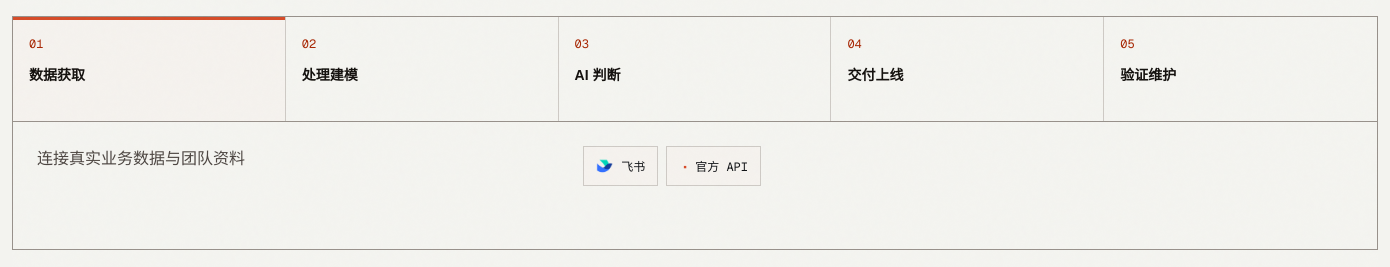
Test: DeliveryPipeline › renders every stage and exposes its active purpose
expect the button "01 数据获取" is shown: met, box [13, 17, 285, 121]
expect the button "02 处理建模" is shown: met, box [286, 17, 558, 121]
Click the button "03 AI 判断".
click(598, 75)  # box [559, 17, 830, 121]
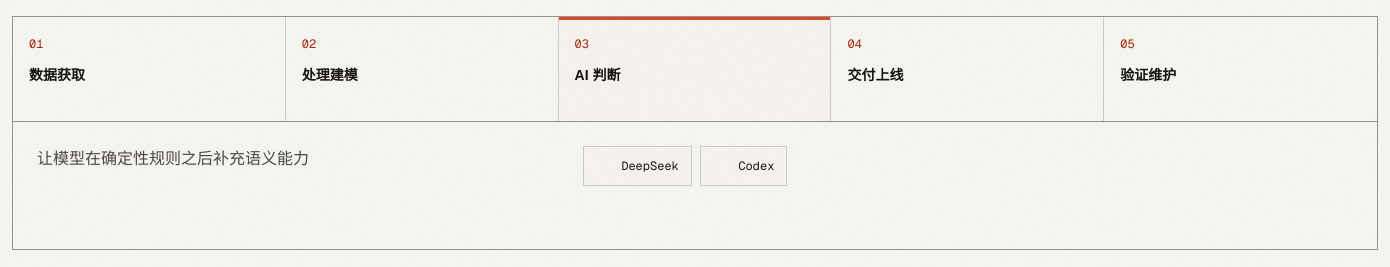
expect the text "让模型在确定性规则之后补充语义能力" is shown: met, box [37, 148, 309, 169]
expect the text "DeepSeek" is shown: met, box [621, 158, 679, 174]
expect the text "Codex" is shown: met, box [738, 158, 774, 174]
